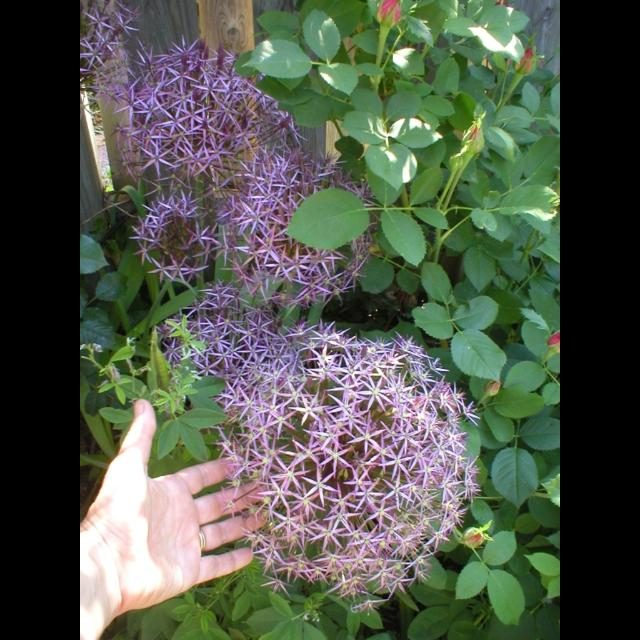Flower: (80, 1, 384, 320), (204, 291, 460, 589), (157, 282, 286, 380)
